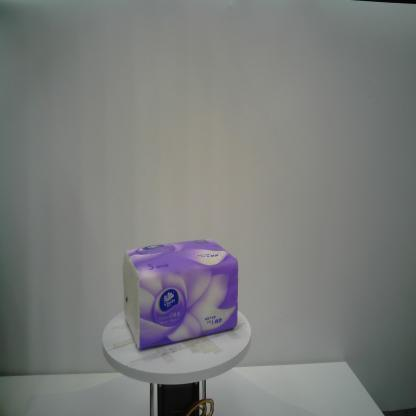Tissue: (121, 238, 239, 352)
